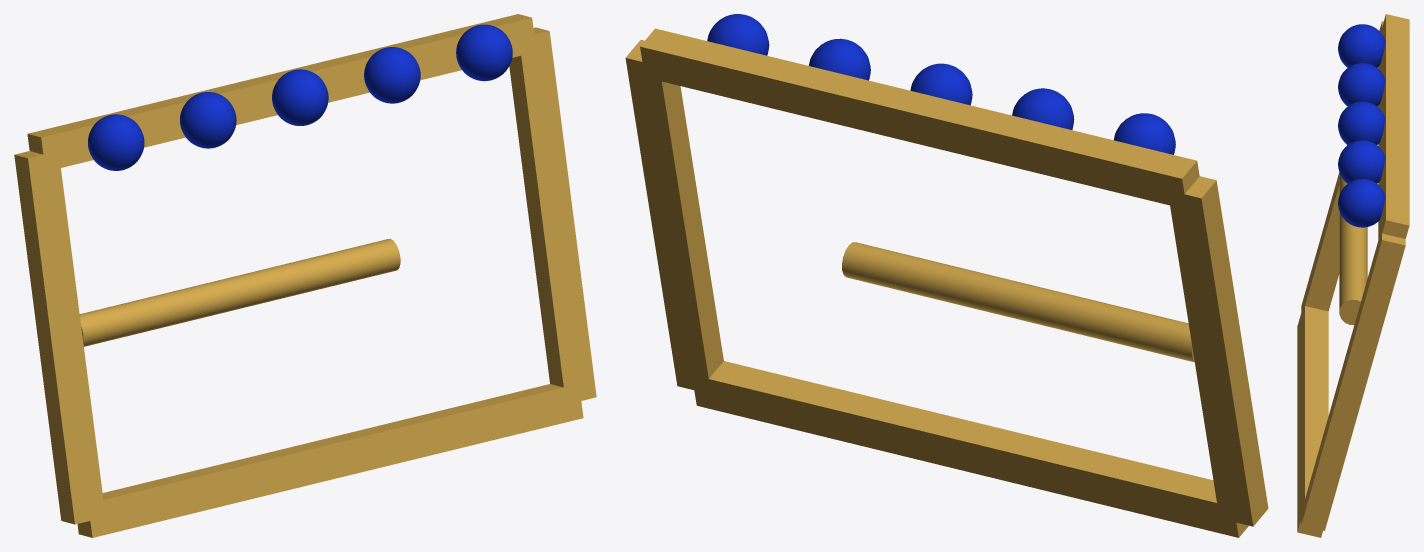
File: buckle.glb
3 views of the same model, side by side, from view 1: azimuth 30°, elevation 25°; view 2: azimuth 150°, elevation 25°; view 3: azimuth 270°, elevation 25° (orthographic). The views are drawn at different scales.
Parts seen in each view (by area): view 1: metal (×5), gem (×5); view 2: metal (×5), gem (×5); view 3: metal (×5), gem (×5).
Boxes of the visible parts, x1=… form: metal (×5): x1=14, y1=14, x2=596, y2=537; gem (×5): x1=88, y1=24, x2=512, y2=170; metal (×5): x1=625, y1=28, x2=1268, y2=537; gem (×5): x1=707, y1=14, x2=1175, y2=154; metal (×5): x1=1297, y1=14, x2=1409, y2=537; gem (×5): x1=1338, y1=24, x2=1385, y2=227.
Size of the model in its own units: 2.55 by 1.8 by 0.5514.
